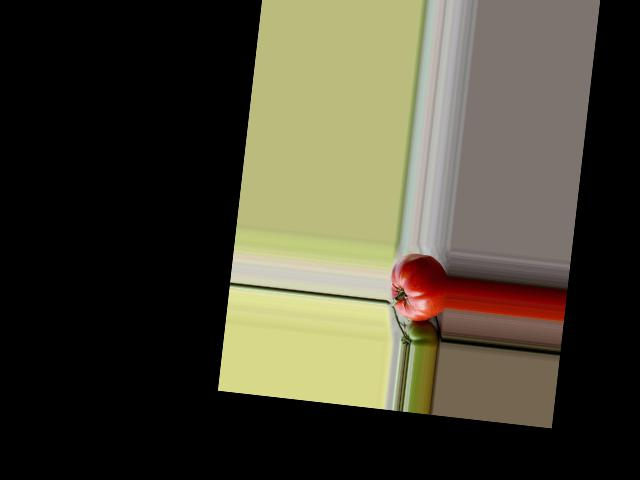tomato: (386, 250, 451, 323)
